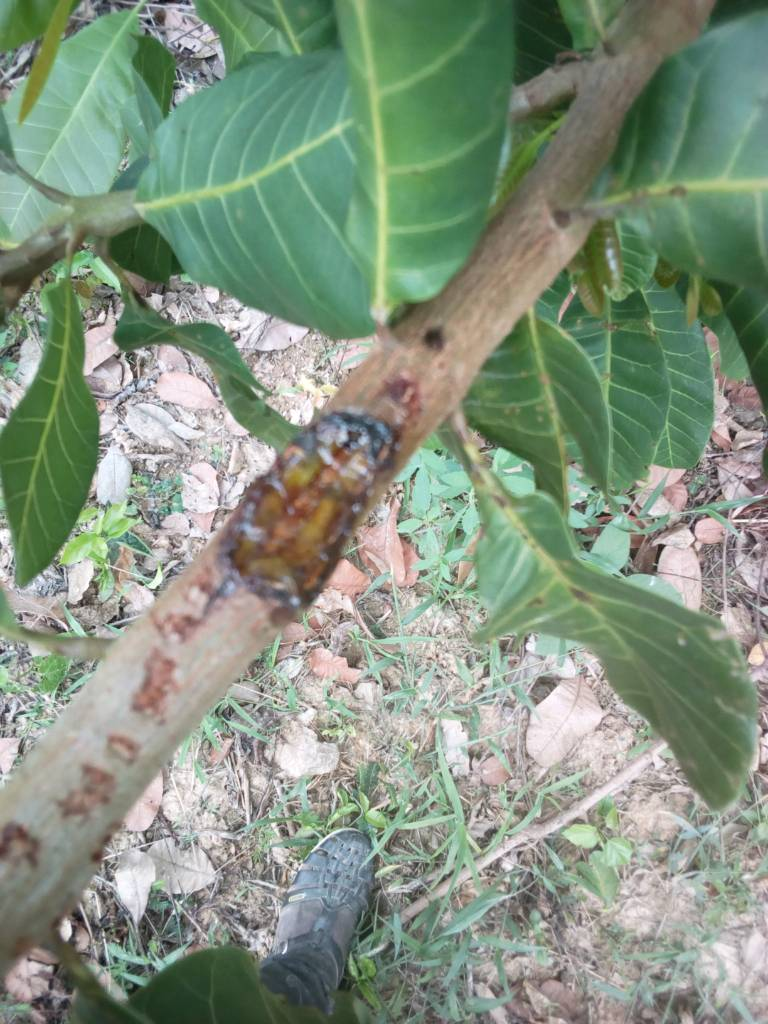Mecocorynus longiceps: (199, 351, 413, 661)
